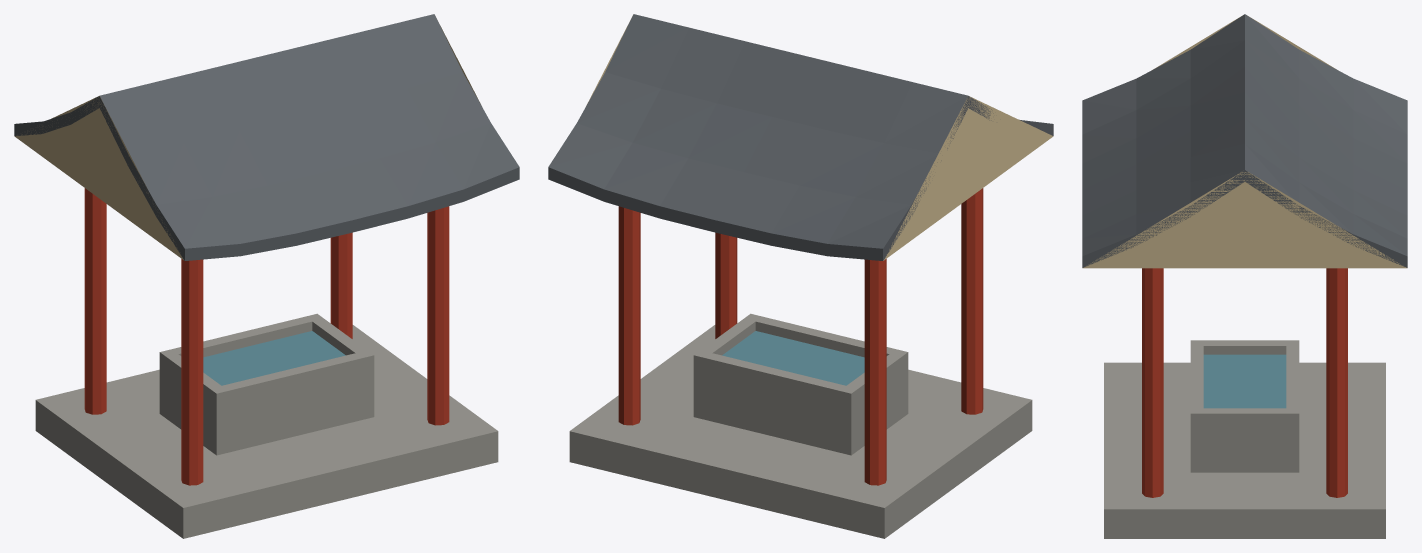
The model's file is chozuya.glb.
3 renders of one model, left to right at view 1: azimuth 30°, elevation 25°; view 2: azimuth 150°, elevation 25°; view 3: azimuth 270°, elevation 25°, orthographic. The views are drawn at different scales.
Visible parts, largest first — view 1: chozuya; view 2: chozuya; view 3: chozuya.
Boxes of the visible parts, left/top/right/bottom form: chozuya: left=14, top=14, right=519, bottom=538; chozuya: left=548, top=14, right=1053, bottom=538; chozuya: left=1082, top=14, right=1407, bottom=538.
Size of the model in its own units: 3.4 by 3.8 by 3.
